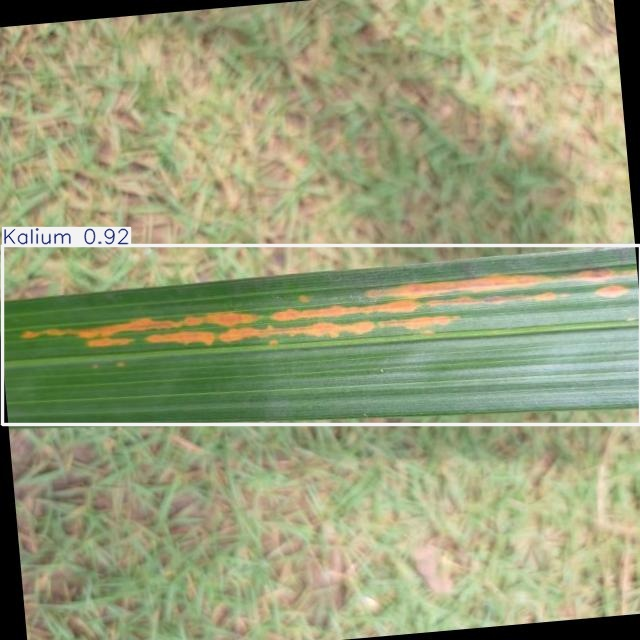Kalium: (3, 246, 640, 424)
